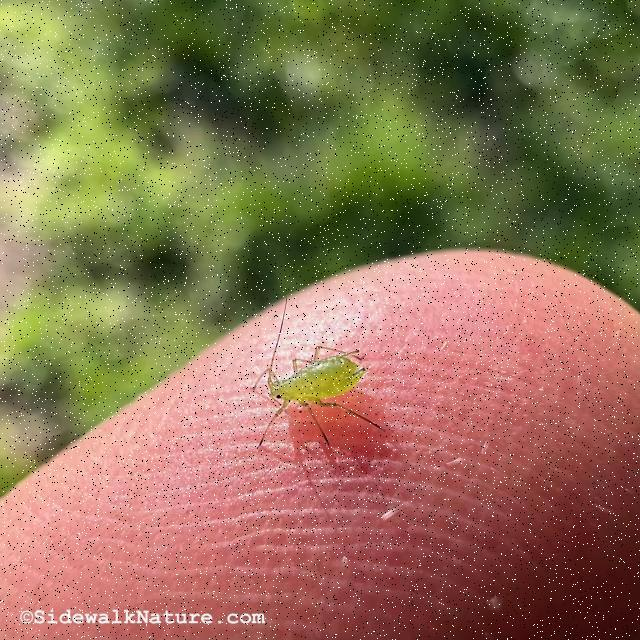Aphids: (218, 292, 403, 466)
